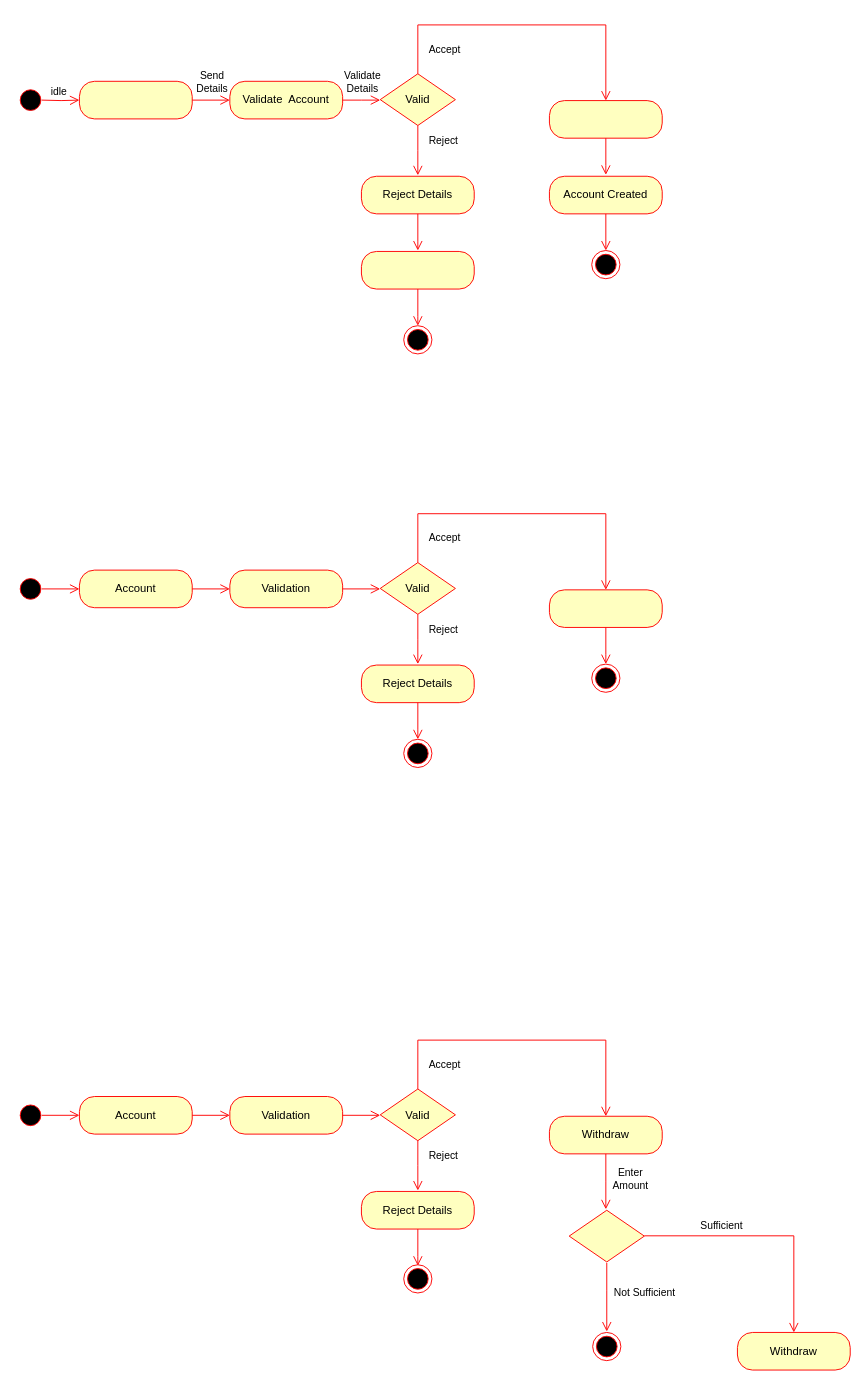
Image size: 867x1387. Some labels were removed from this diagram. The centre of each missing label's shape, as x and y in pixels:
"Account Rejected" goes at (417,270).
"Amount Sufficient" goes at (606,1235).
"Current Account" goes at (135,99).
"Current Account Details" goes at (605,119).
"Deposit" goes at (605,608).
